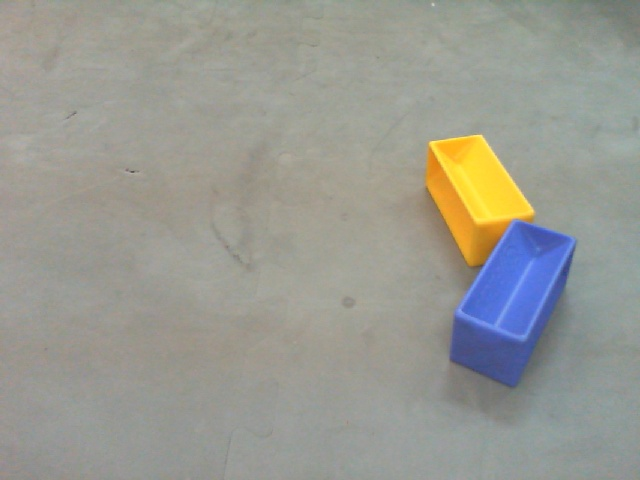BlueSample: (446, 217, 590, 387)
YellowSample: (424, 133, 538, 267)
